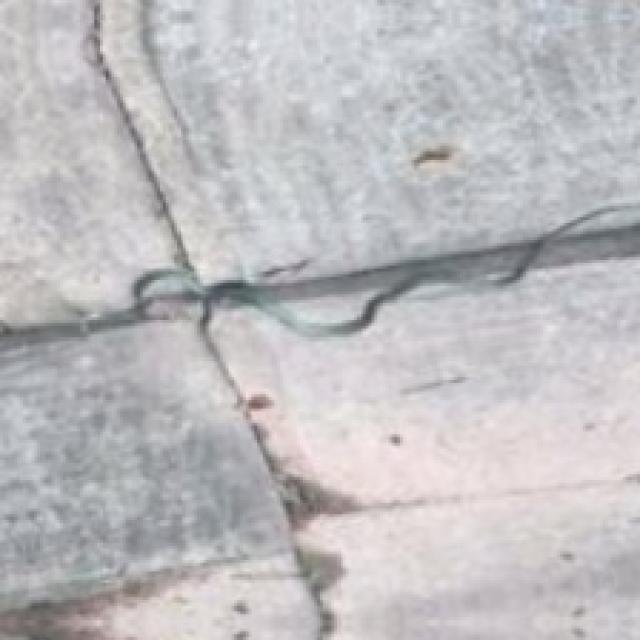paradise tree snake: (0, 0, 637, 637), (0, 323, 314, 637)
